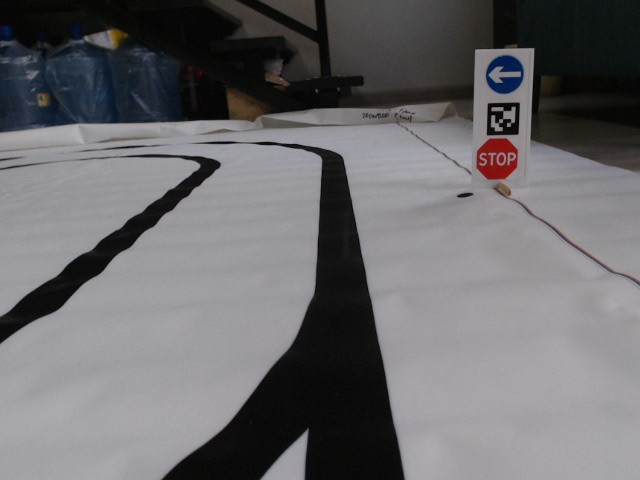Stop: (475, 137, 519, 179)
